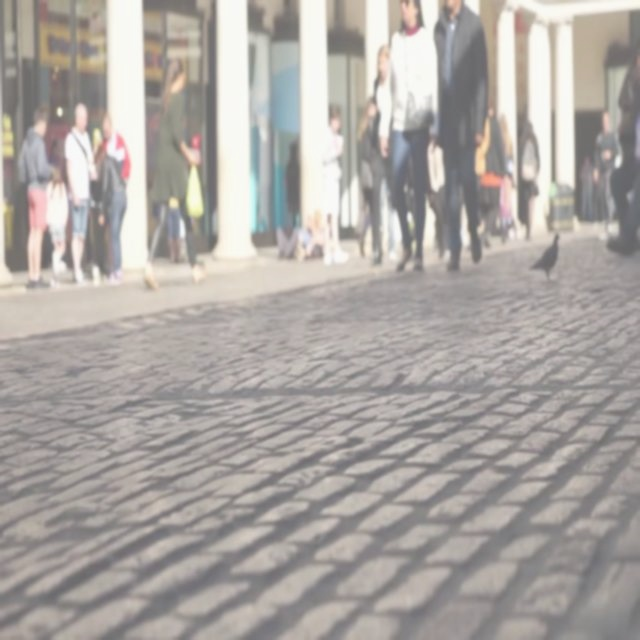pessoa: (431, 0, 491, 275), (380, 0, 440, 272), (142, 53, 206, 292), (17, 102, 56, 290), (63, 100, 101, 283), (472, 107, 514, 245), (318, 105, 351, 268), (371, 44, 395, 266), (94, 142, 128, 286), (514, 115, 541, 244), (594, 111, 621, 236), (358, 94, 386, 210), (44, 160, 70, 282), (616, 39, 640, 164), (356, 108, 374, 259), (100, 114, 131, 186), (428, 184, 448, 262), (165, 201, 188, 267), (286, 141, 302, 232), (579, 153, 595, 223)
